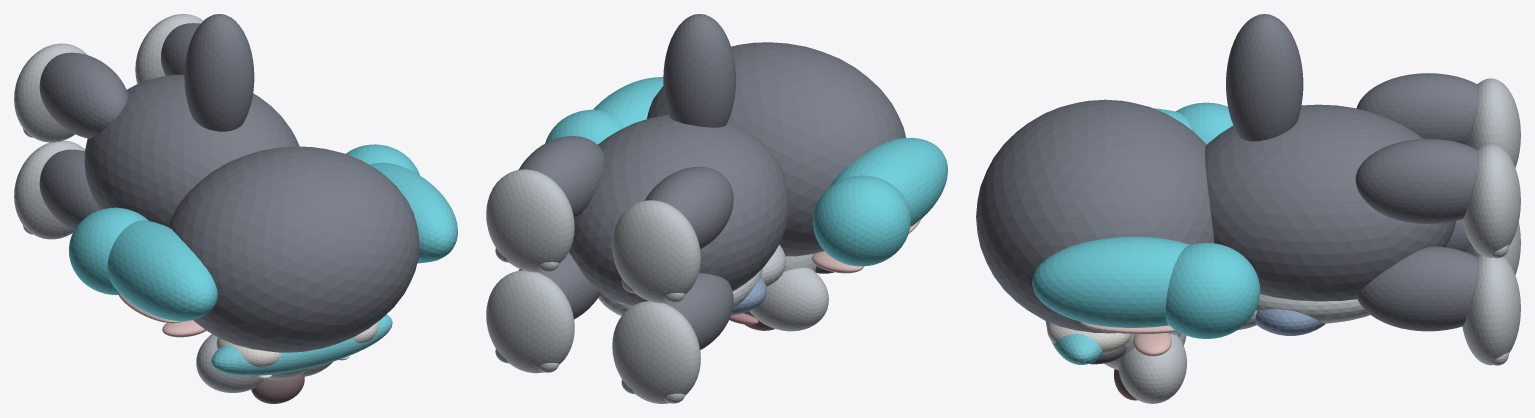
The model's file is dog-04.glb.
3 views of the same model, side by side, from view 1: azimuth 30°, elevation 25°; view 2: azimuth 150°, elevation 25°; view 3: azimuth 270°, elevation 25° (orthographic). The views are drawn at different scales.
Parts seen in each view (by area): view 1: head, body, longEarL, tail, legBodybackL, longEarR, earEndL, legBodyfrontL, pawbackL, cyberVisor, pawfrontL, pawbackR (+6 smaller); view 2: body, head, earEndL, pawbackR, pawbackL, pawfrontL, pawfrontR, tail, longEarL, legBodybackL, legBodybackR, muzzlePuffL (+9 smaller); view 3: head, body, longEarR, legBodybackR, tail, legBodyfrontR, earEndR, legBodybackL, pawbackR, pawfrontR, muzzlePuffR, pawbackL (+8 smaller).
Boxes of the visible parts, box(x1,y1,x2,y2) form: head: box(168, 146, 419, 352); body: box(84, 74, 299, 226); longEarL: box(107, 220, 217, 321); tail: box(184, 14, 254, 131); legBodybackL: box(39, 52, 128, 138); longEarR: box(369, 162, 457, 262); earEndL: box(69, 207, 148, 295); legBodyfrontL: box(39, 149, 99, 230); pawbackL: box(14, 43, 87, 142); cyberVisor: box(211, 314, 392, 375); pawfrontL: box(14, 140, 85, 239); pawbackR: box(135, 14, 203, 83); body: box(569, 114, 789, 305); head: box(647, 42, 905, 256); earEndL: box(813, 175, 910, 266); pawbackR: box(486, 169, 574, 272); pawbackL: box(612, 200, 700, 303); pawfrontL: box(612, 301, 700, 403); pawfrontR: box(486, 270, 574, 373); tail: box(663, 14, 735, 127); longEarL: box(830, 137, 947, 226); legBodybackL: box(645, 166, 733, 249); legBodybackR: box(518, 136, 604, 218); muzzlePuffL: box(749, 267, 828, 331); head: box(976, 99, 1214, 333); body: box(1205, 104, 1456, 301); longEarR: box(1032, 236, 1190, 327); legBodybackR: box(1355, 138, 1478, 223); tail: box(1226, 14, 1303, 141); legBodyfrontR: box(1356, 246, 1478, 331); earEndR: box(1165, 243, 1260, 338); legBodybackL: box(1356, 73, 1478, 144); pawbackR: box(1462, 144, 1520, 257); pawfrontR: box(1462, 255, 1520, 365); muzzlePuffR: box(1118, 334, 1186, 403); pawbackL: box(1466, 78, 1520, 167).
Bounding box in the file's own units: 2.02 × 1.95 × 2.53.
